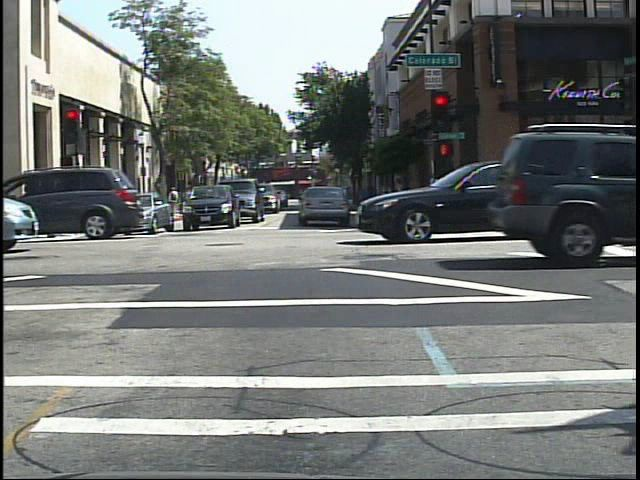person: (613, 153, 637, 221), (166, 181, 184, 221)
